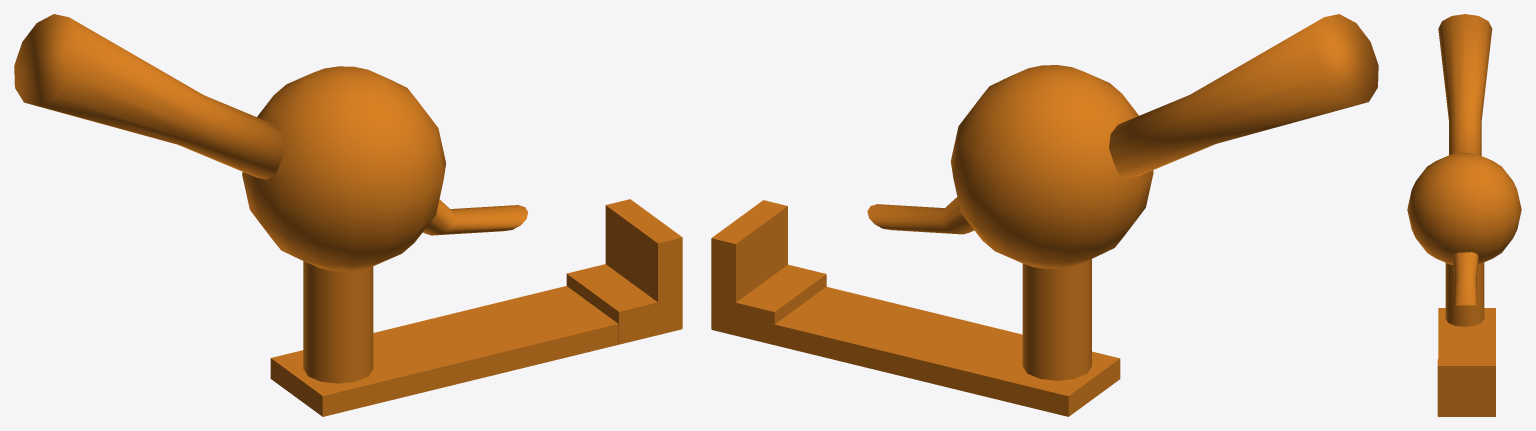
The model's file is Telescope Placeholder.FBX.
The picture shows the model from 3 angles, left to right: view 1: azimuth 30°, elevation 25°; view 2: azimuth 150°, elevation 25°; view 3: azimuth 270°, elevation 25°; orthographic projection. The views are drawn at different scales.
Visible parts, largest first — view 1: Cylinder001; view 2: Cylinder001; view 3: Cylinder001.
Part boxes in pixels (x1=…): Cylinder001: x1=14, y1=14, x2=682, y2=416; Cylinder001: x1=711, y1=14, x2=1378, y2=416; Cylinder001: x1=1407, y1=14, x2=1521, y2=416.
Bounding box in the file's own units: 9.68 × 6.39 × 2.72.
